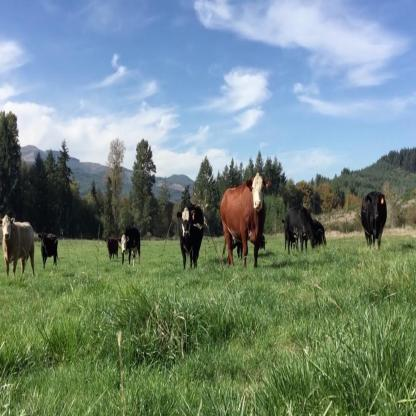cow: (220, 176, 270, 266), (2, 217, 35, 278), (178, 206, 204, 270), (285, 206, 317, 255), (360, 192, 387, 247), (121, 226, 140, 267), (39, 233, 58, 269), (106, 237, 118, 261)
